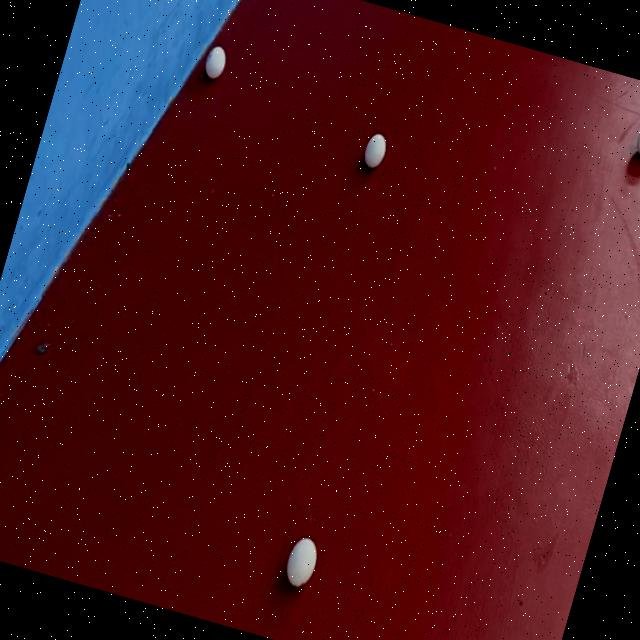ping-pong-ball: (275, 526, 326, 595), (193, 38, 233, 90), (354, 124, 391, 178), (628, 111, 640, 164)
